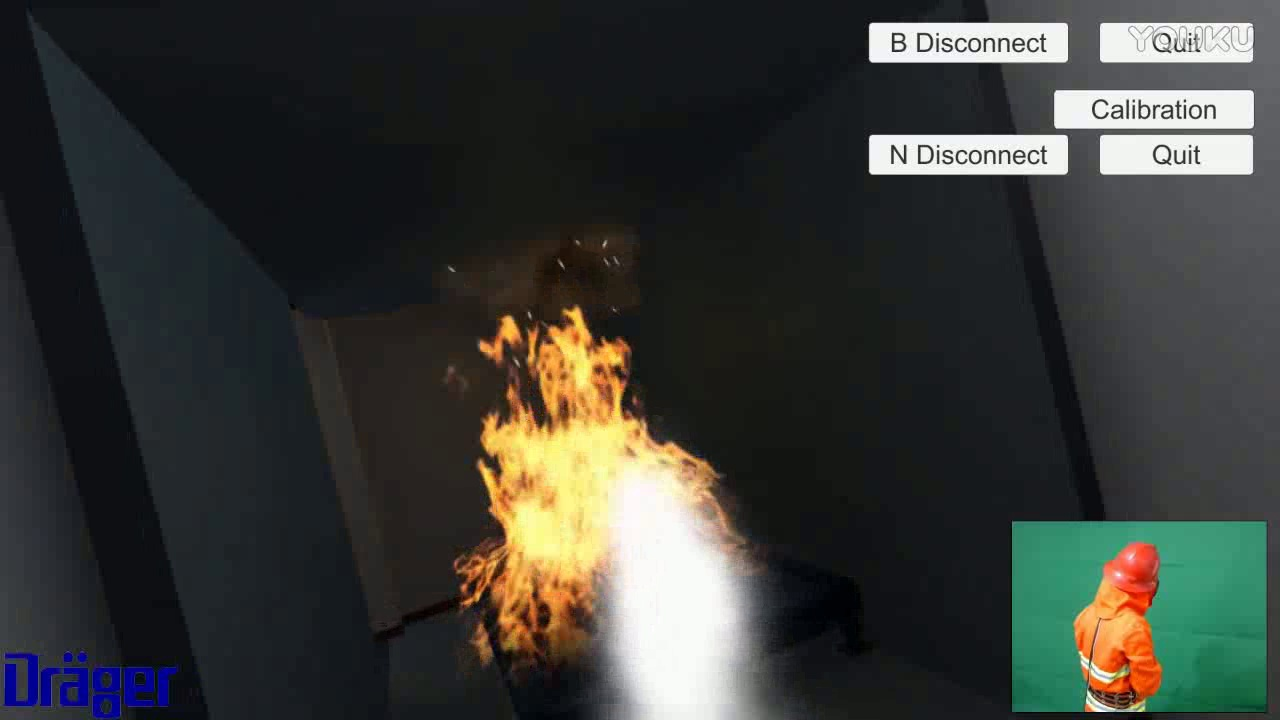fire: (443, 303, 781, 675)
